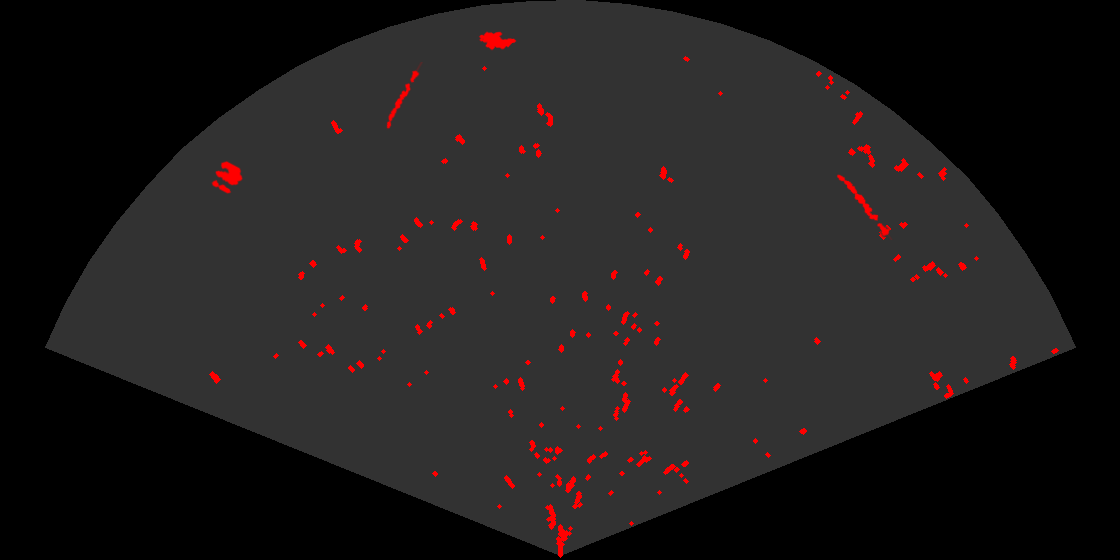AUV: (477, 30, 518, 51)
ball: (210, 159, 244, 195)
chain: (835, 173, 894, 240), (385, 62, 424, 131)
